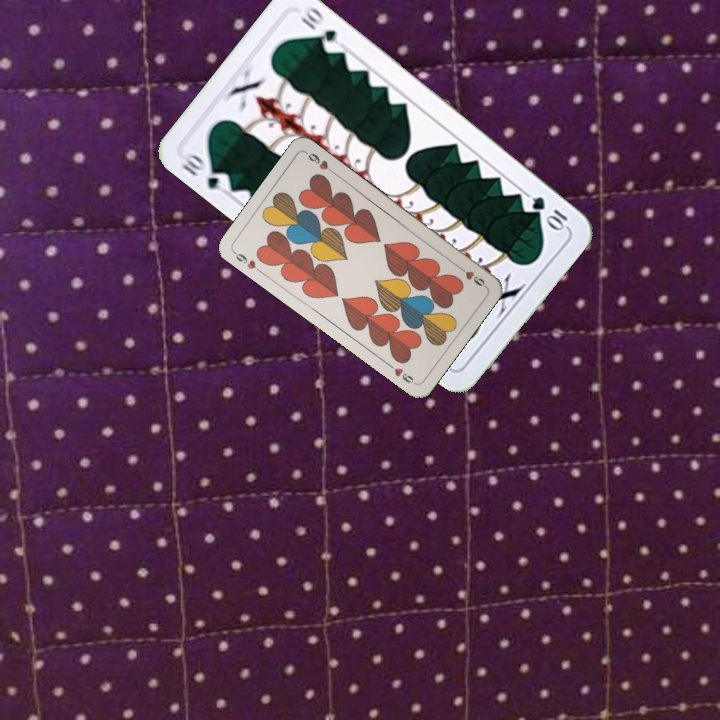G10: (177, 148, 234, 192), (527, 192, 572, 233)
H9: (229, 247, 265, 276), (453, 261, 488, 290)
